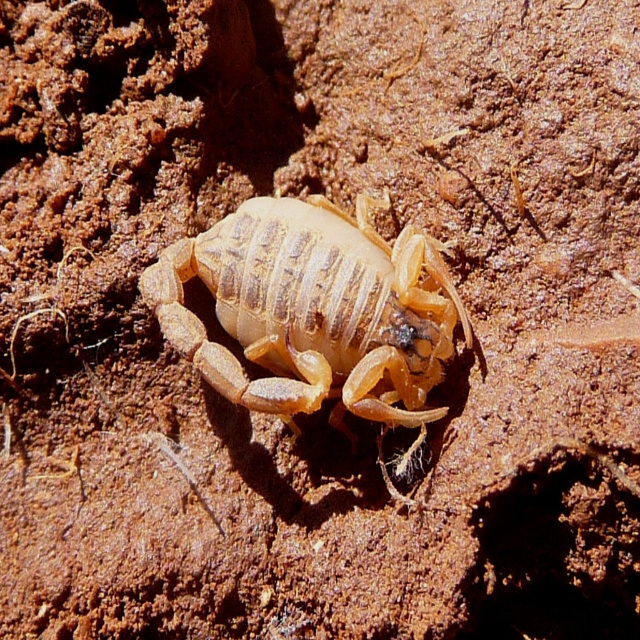Scorpion: (135, 189, 475, 442)
